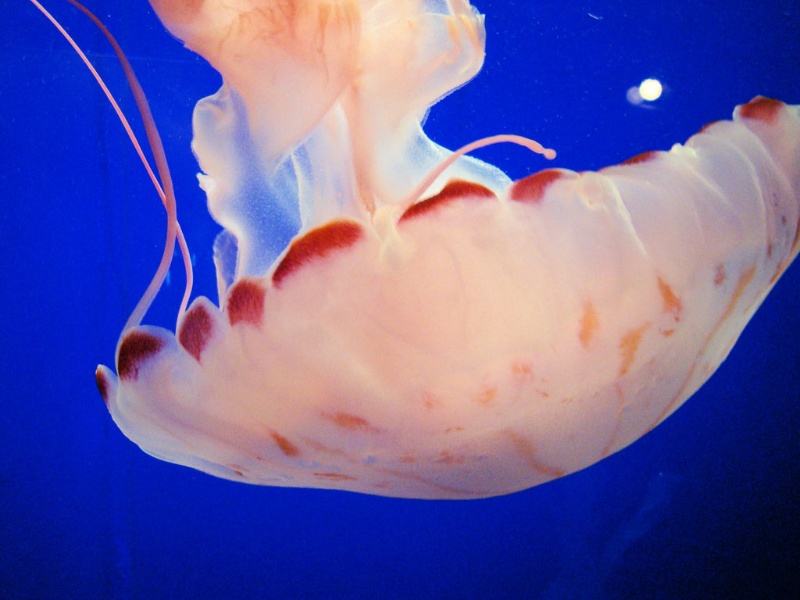Jellyfish: (29, 0, 798, 499)
